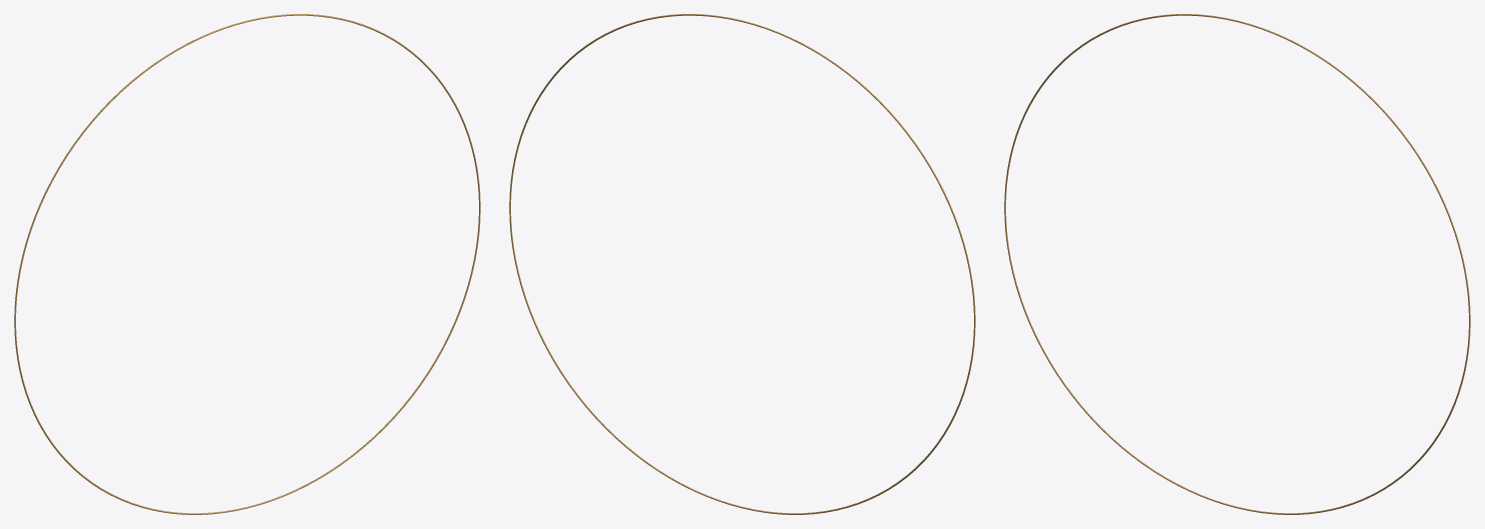
The model's file is orbital_ring.glb.
3 renders of one model, left to right at view 1: azimuth 30°, elevation 25°; view 2: azimuth 150°, elevation 25°; view 3: azimuth 330°, elevation 25°, orthographic.
Visible parts, largest first — view 1: orbital_ring; view 2: orbital_ring; view 3: orbital_ring.
Boxes of the visible parts, x1,y1,x2,y2 form: orbital_ring: [14, 14, 480, 514]; orbital_ring: [509, 14, 975, 514]; orbital_ring: [1004, 14, 1470, 514].
Size of the model in its own units: 1.9 by 1.9 by 0.00572.
